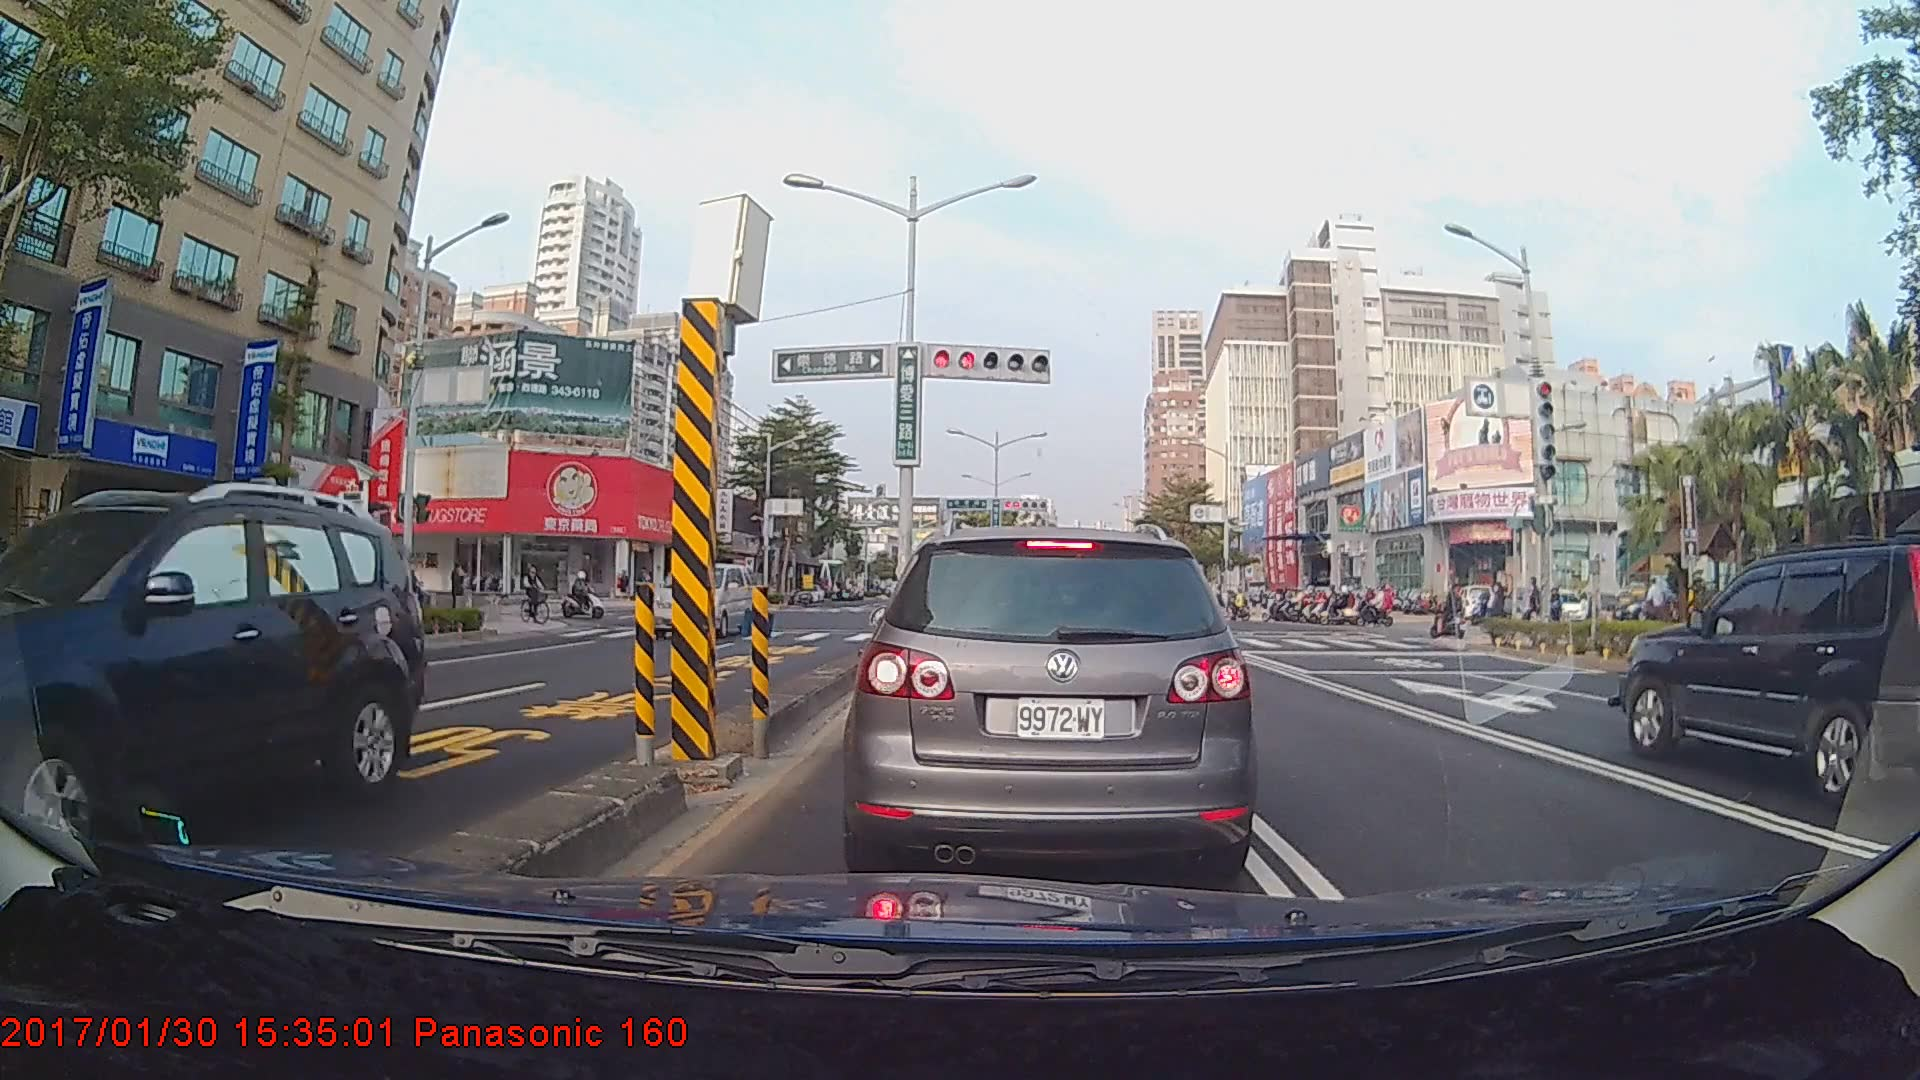pedestrian: (1645, 576, 1666, 635)
rider: (562, 566, 609, 619), (1425, 582, 1464, 637), (522, 566, 551, 627)
vehicle: (838, 517, 1261, 881), (0, 490, 421, 855), (1615, 539, 1920, 809), (648, 561, 754, 639)
